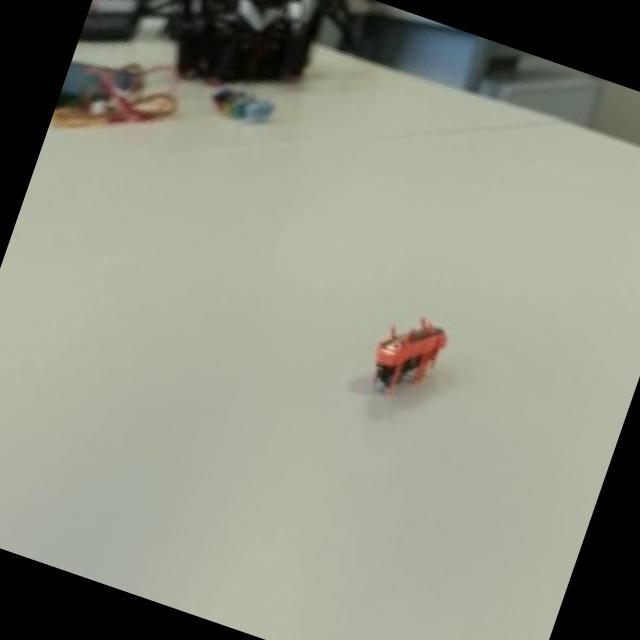7_NanoBug_Naranja: (331, 276, 468, 446)
